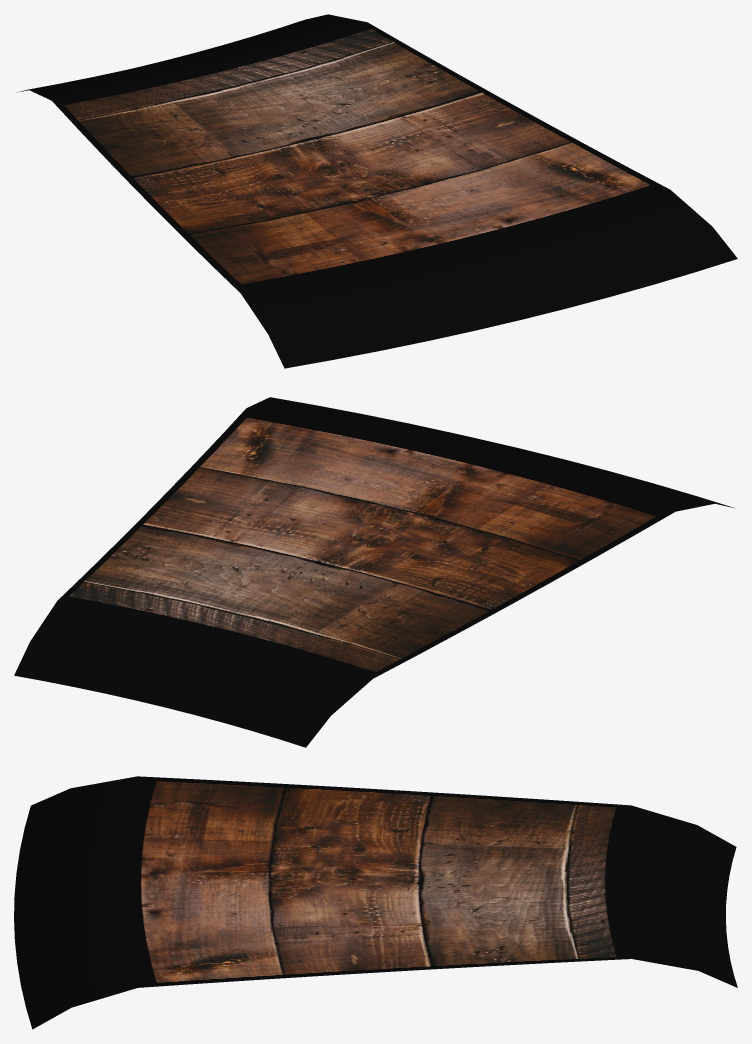
File: GravelCurve.fbx
3 renders of one model, top to bottom at view 1: azimuth 30°, elevation 25°; view 2: azimuth 150°, elevation 25°; view 3: azimuth 270°, elevation 25°, orthographic.
Parts seen in each view (by area): view 1: pPlane1; view 2: pPlane1; view 3: pPlane1.
Part boxes in pixels (x1,y1,x2,y2): pPlane1: (16,14,737,368); pPlane1: (14,397,734,747); pPlane1: (14,776,737,1029).
Size of the model in its own units: 1.21 by 0.0905 by 1.67.
